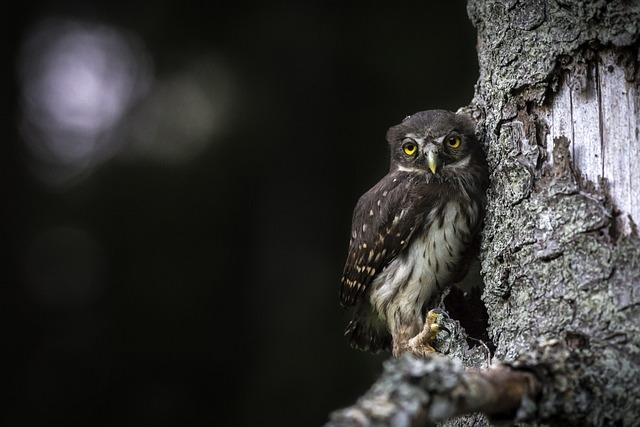Non_Gorille: (242, 39, 640, 394)
